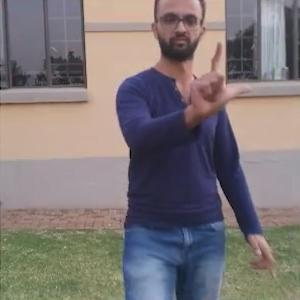land_hand: (182, 37, 249, 112)
